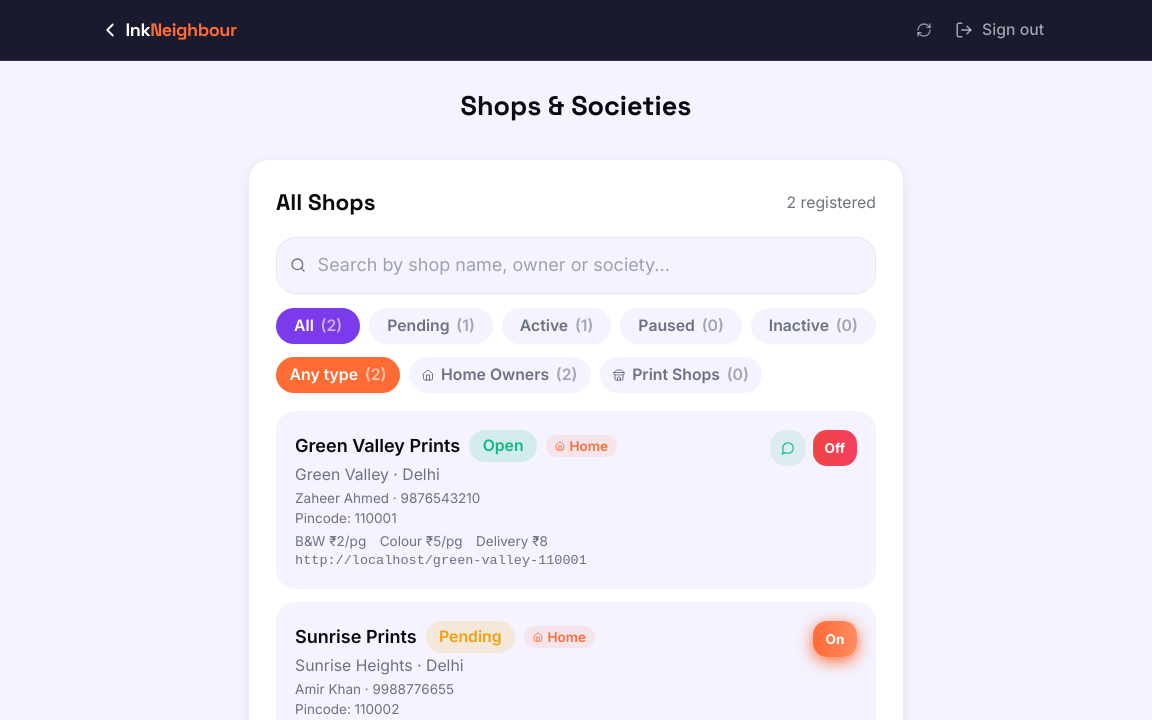
AdminDirectory — filtering › shows only pending shops when Pending filter is active
Expected: the text "Green Valley Prints" is shown, [295,432,460,460]
Click the button "Pending(1)" at (431, 326), box [369,308,493,344]
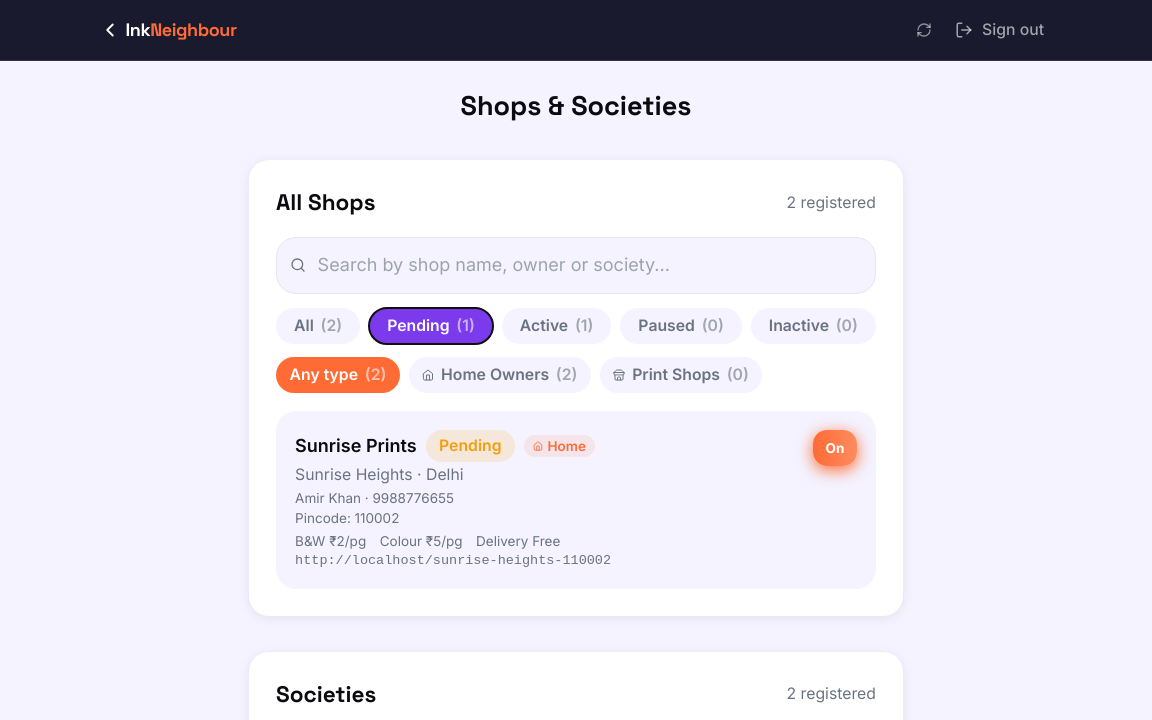
Expected: the text "Sunrise Prints" is shown, [295,432,417,460]
Now the text "Green Valley Prints" is gone
